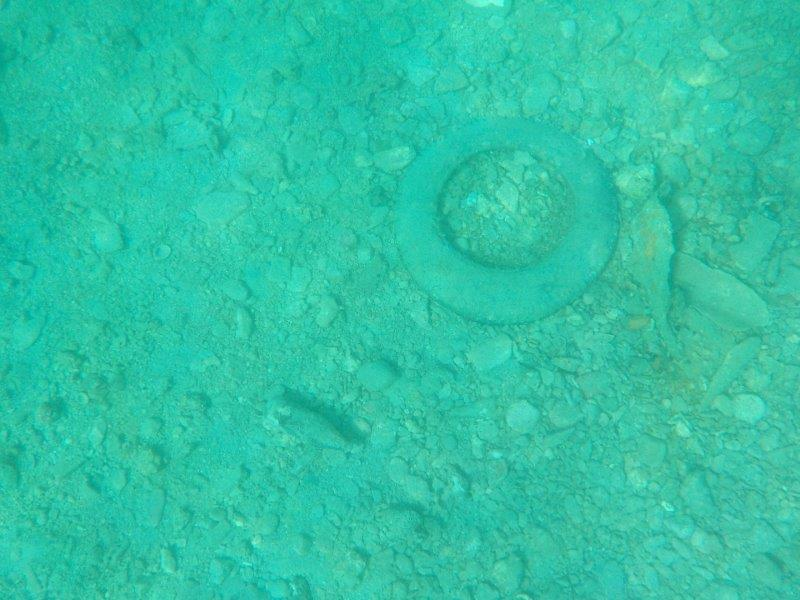bottle: (259, 391, 355, 459)
tire: (390, 114, 621, 326)
